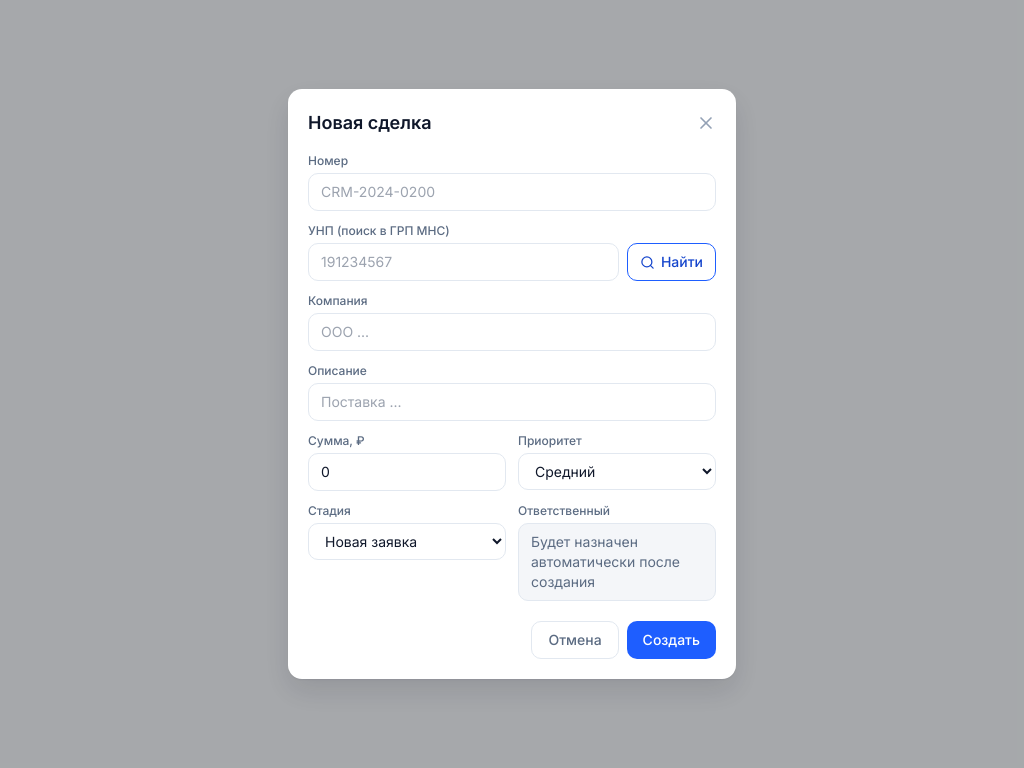
Test: CreateDealModal › отклоняет невалидный УНП 123
Type "123" into the field with placeholder "191234567".
click(463, 262); type("123")  # box x1=308 y1=243 x2=619 y2=281
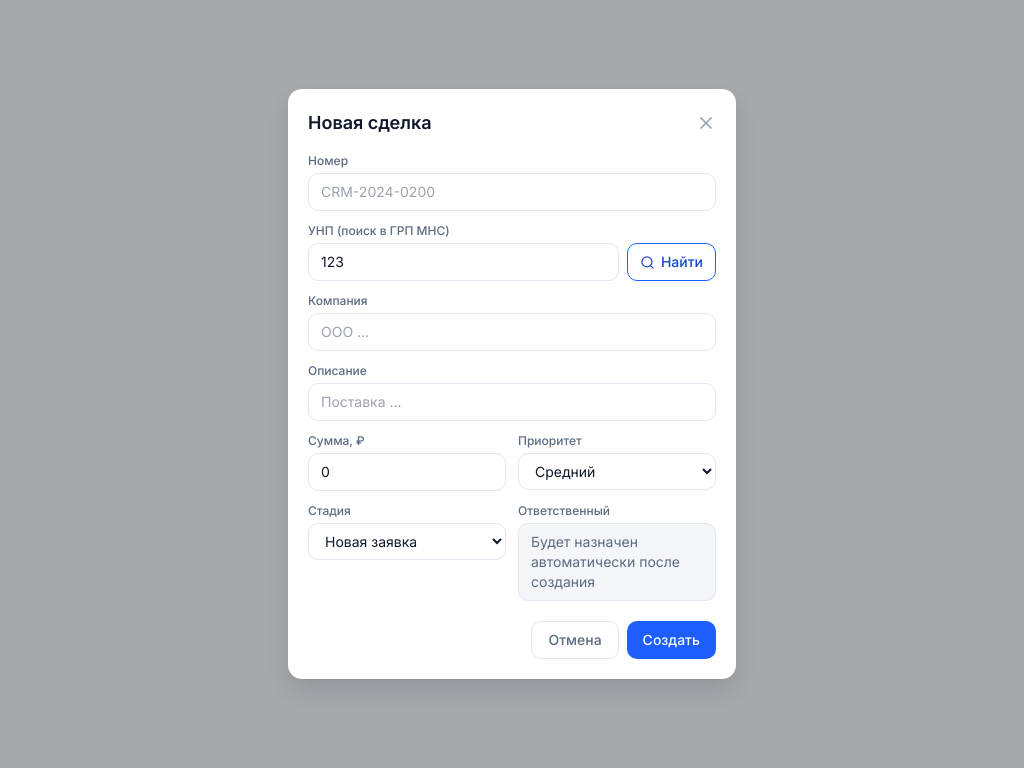
Click the button "Найти".
click(671, 262)  # box x1=627 y1=243 x2=716 y2=281
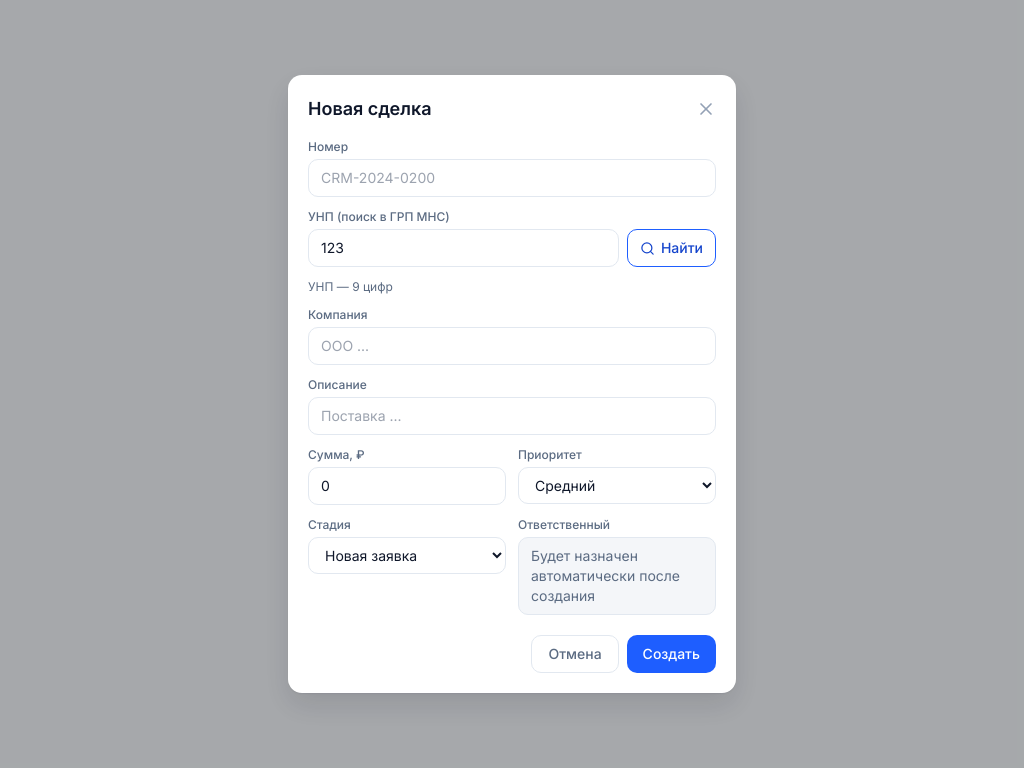
Now the message reads "УНП — 9 цифр", box x1=308 y1=279 x2=393 y2=294
